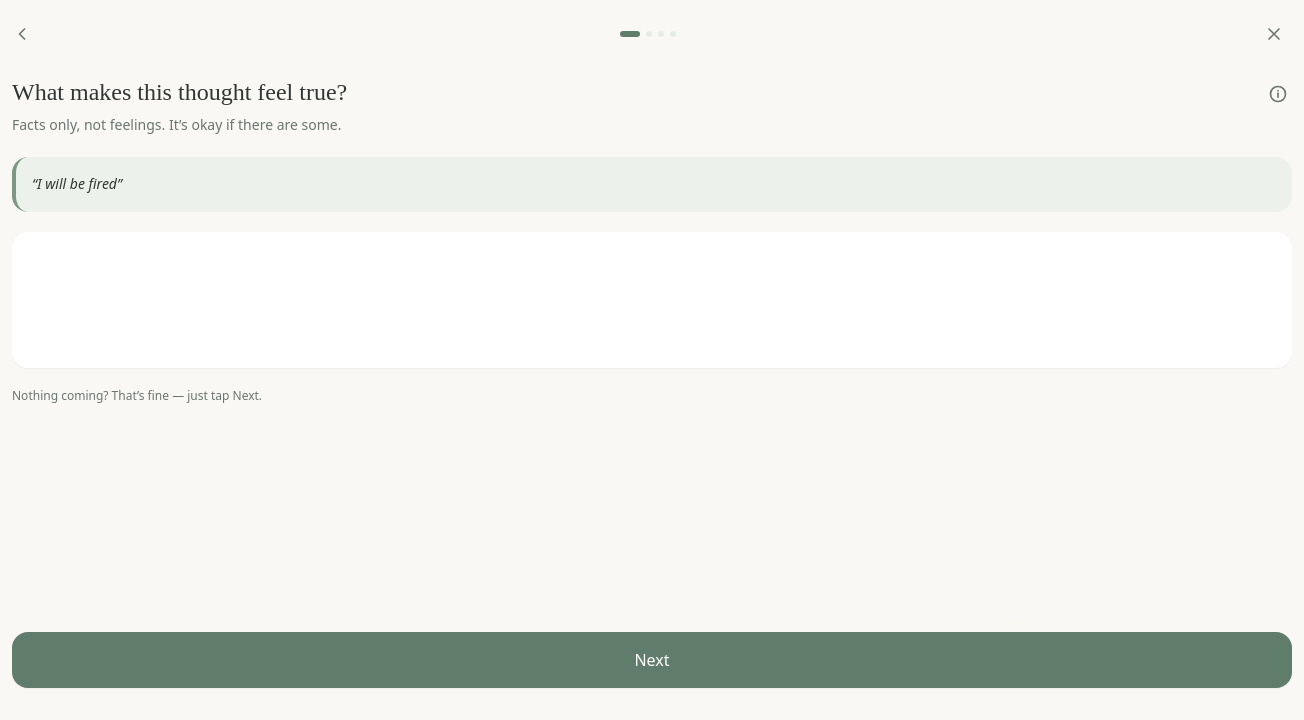
Test: with the pattern setting off (default), evidence leads straight to the balanced step
Expected: the heading "What makes this thought feel true?" is shown, [12,76,347,108]
Click the button "Next": click(652, 660) [12,632,1292,688]
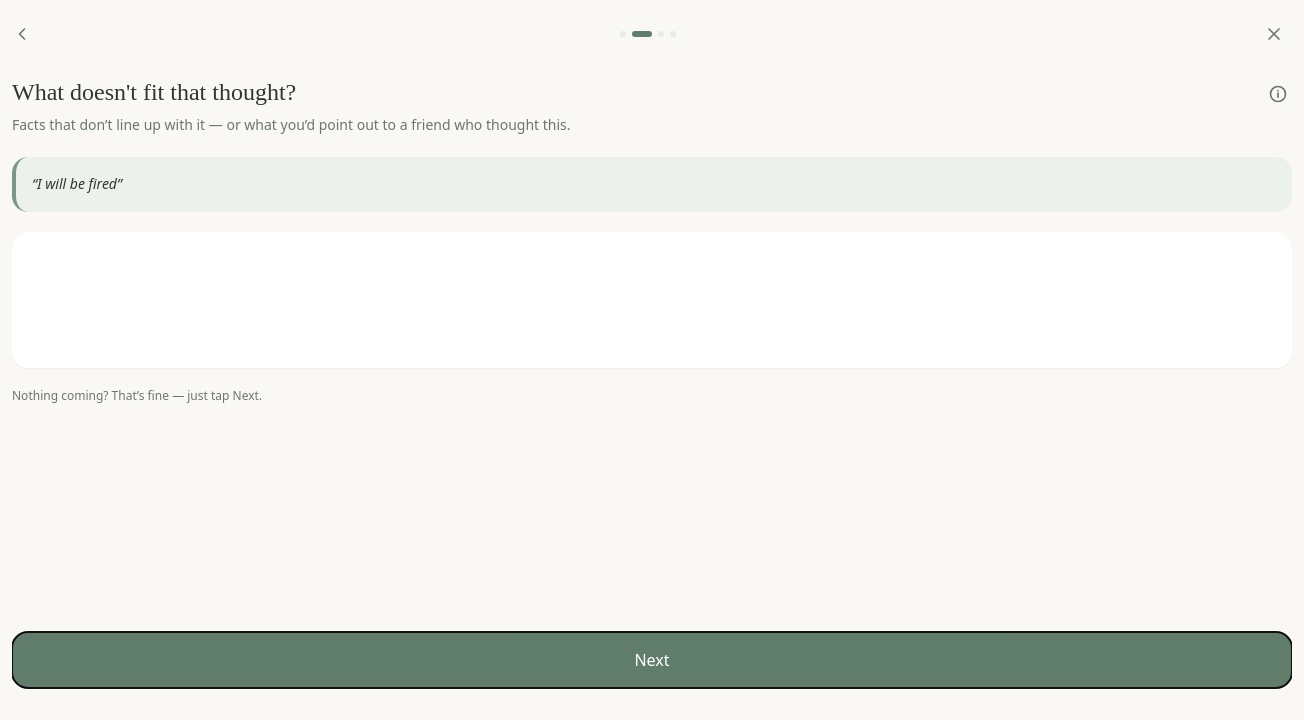
Expected: the heading "What doesn't fit that thought?" is shown, [12,76,296,108]
Click the button "Next": click(652, 660) [12,632,1292,688]
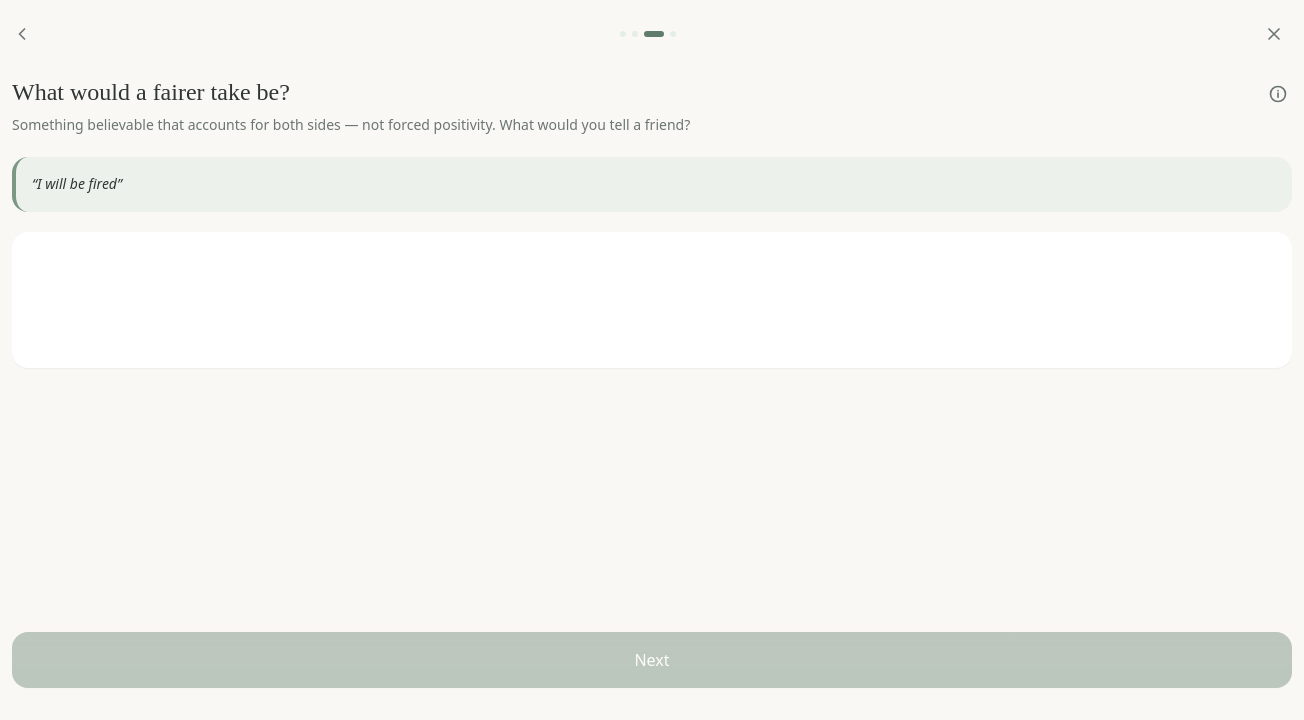
Expected: the heading "What would a fairer take be?" is shown, [12,76,290,108]
